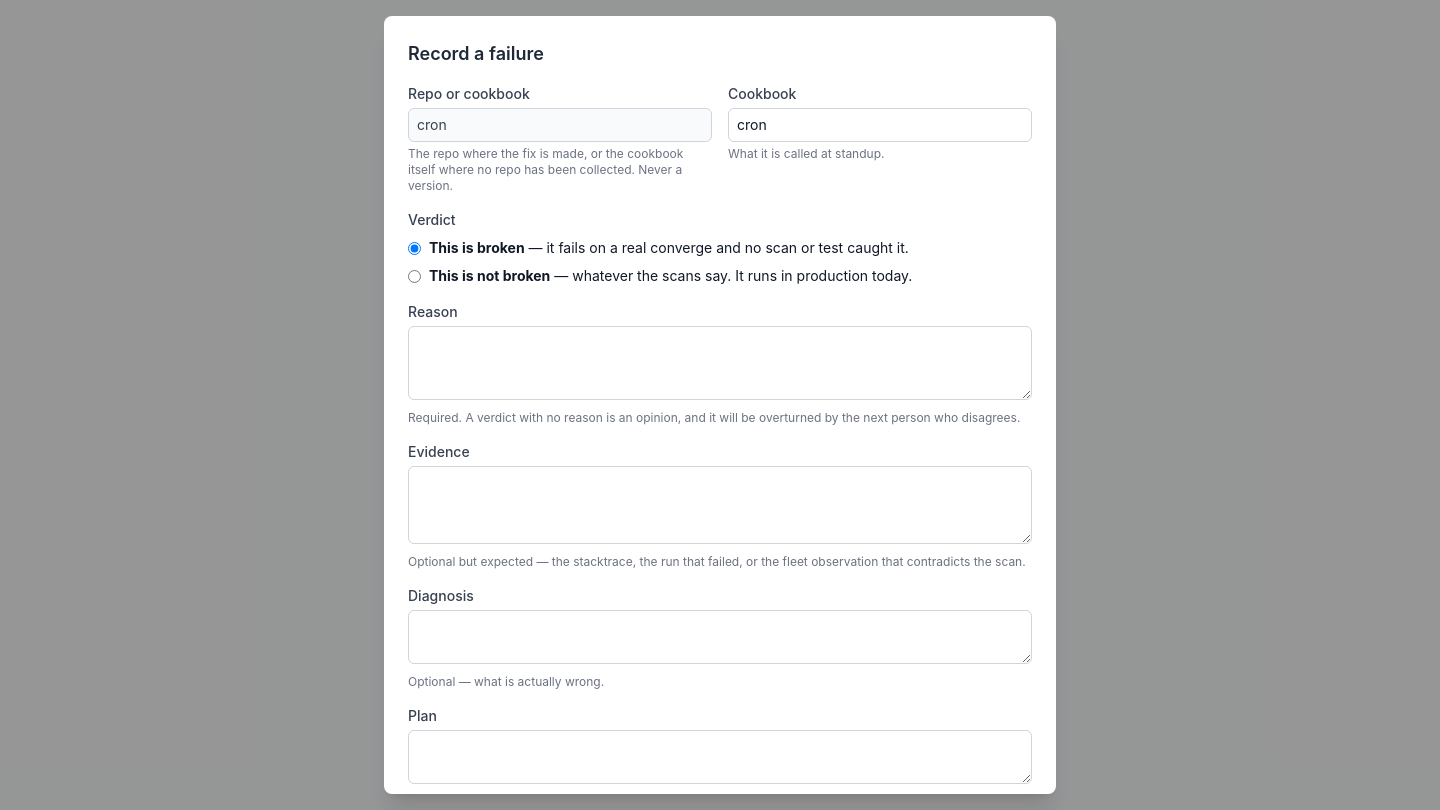
Scenario: FailureEntryDialog — who is on it, resolved › will not record an owner name that was typed rather than picked
Type "Bogus failure" into the text box labelled "Reason" at (720,363), box [408,326,1032,400]
(page scrolled)
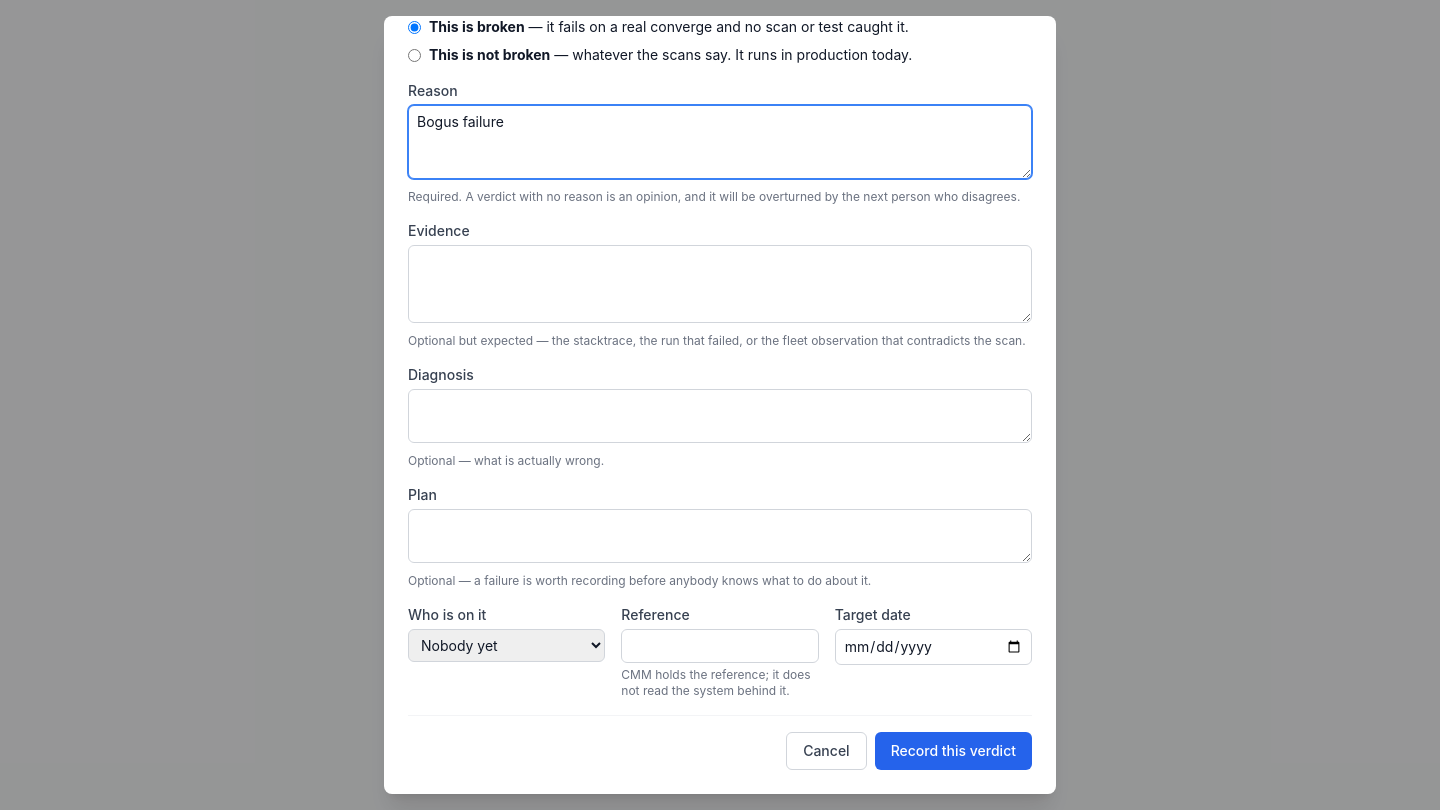
Select "An owner" in the dropdown labelled "Who is on it" at (507,646), box [408,629,605,662]
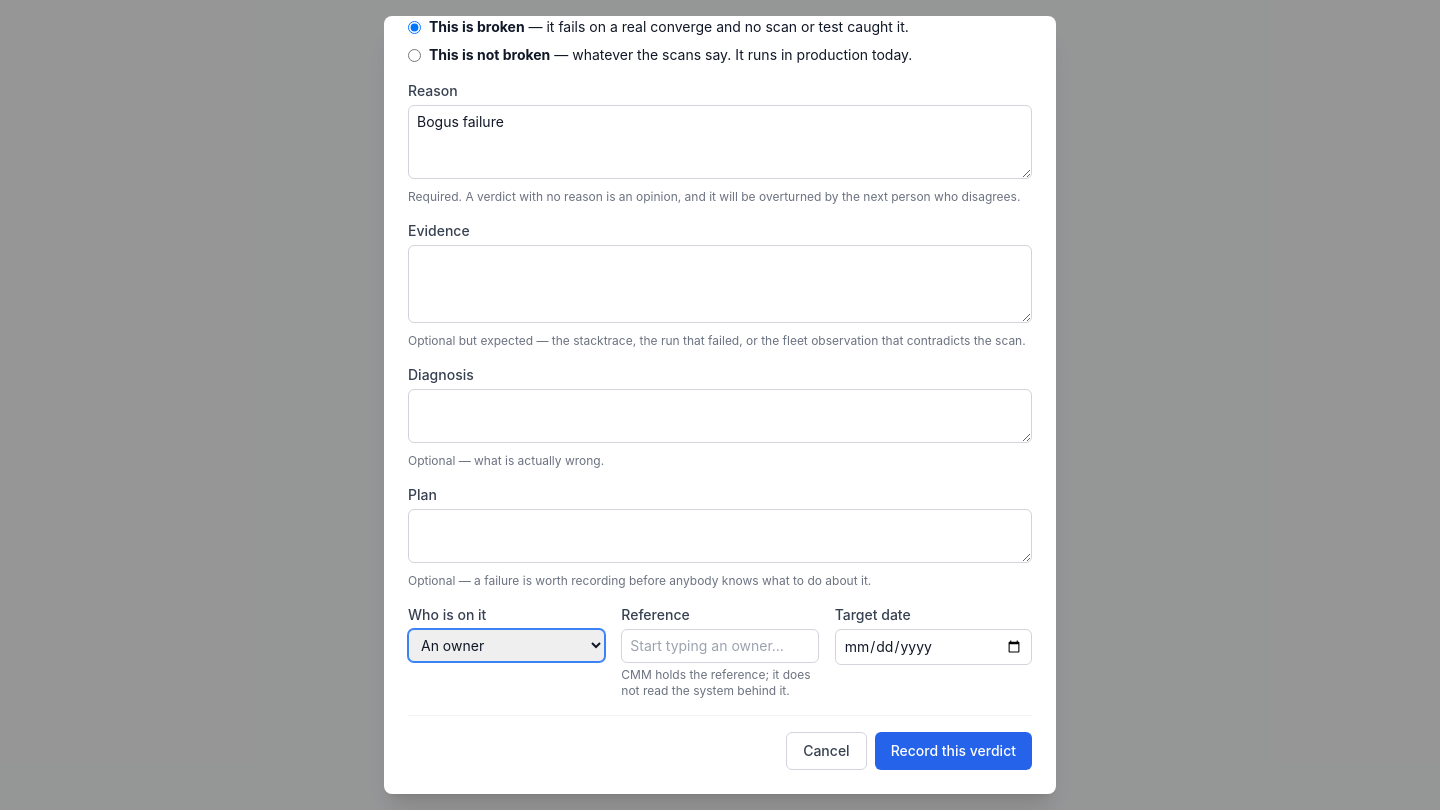
Type "someone made up" into the dropdown labelled "Reference" at (720,646), box [621,629,819,663]
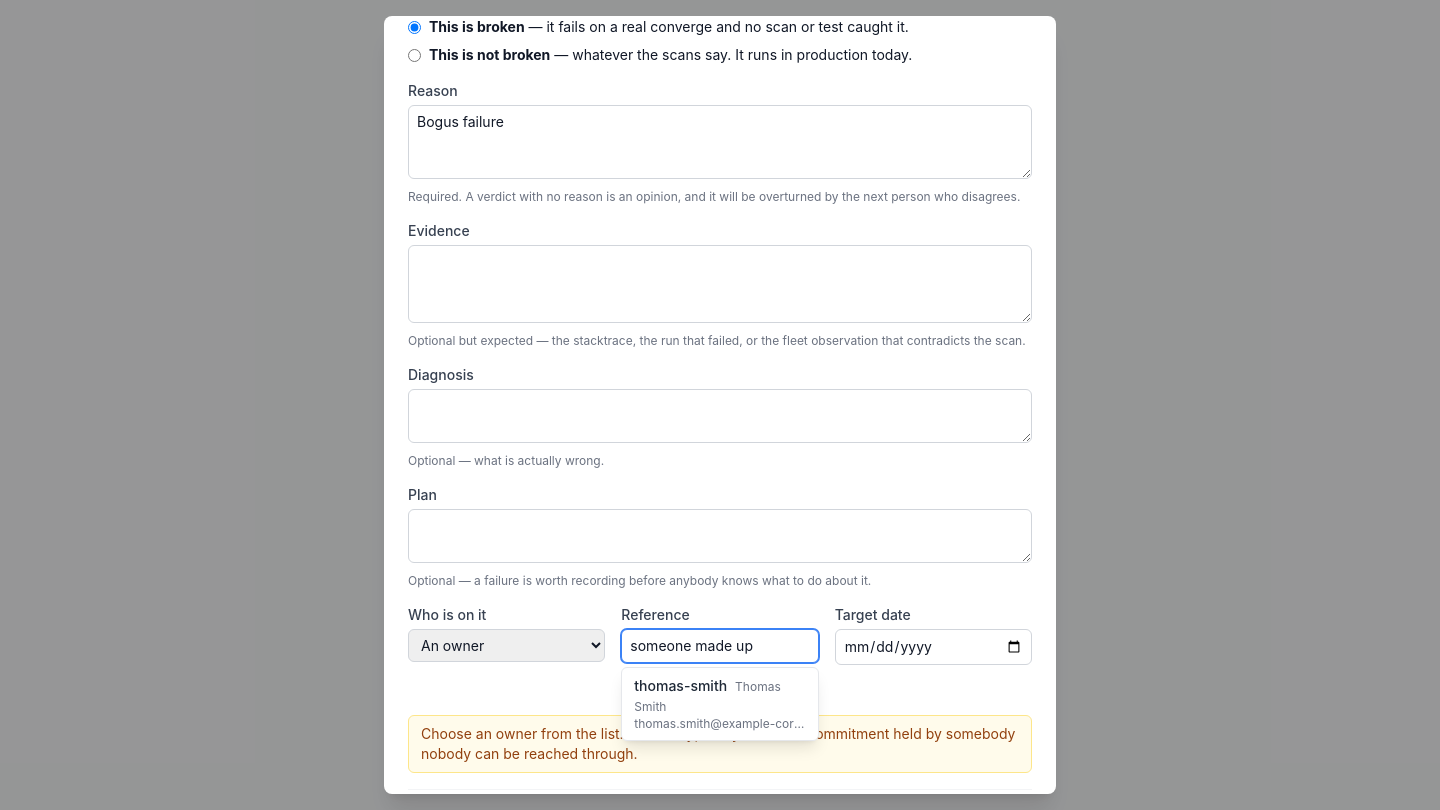
Expected: the text "Choose an owner from the list" is shown, [421,725,1015,762]
